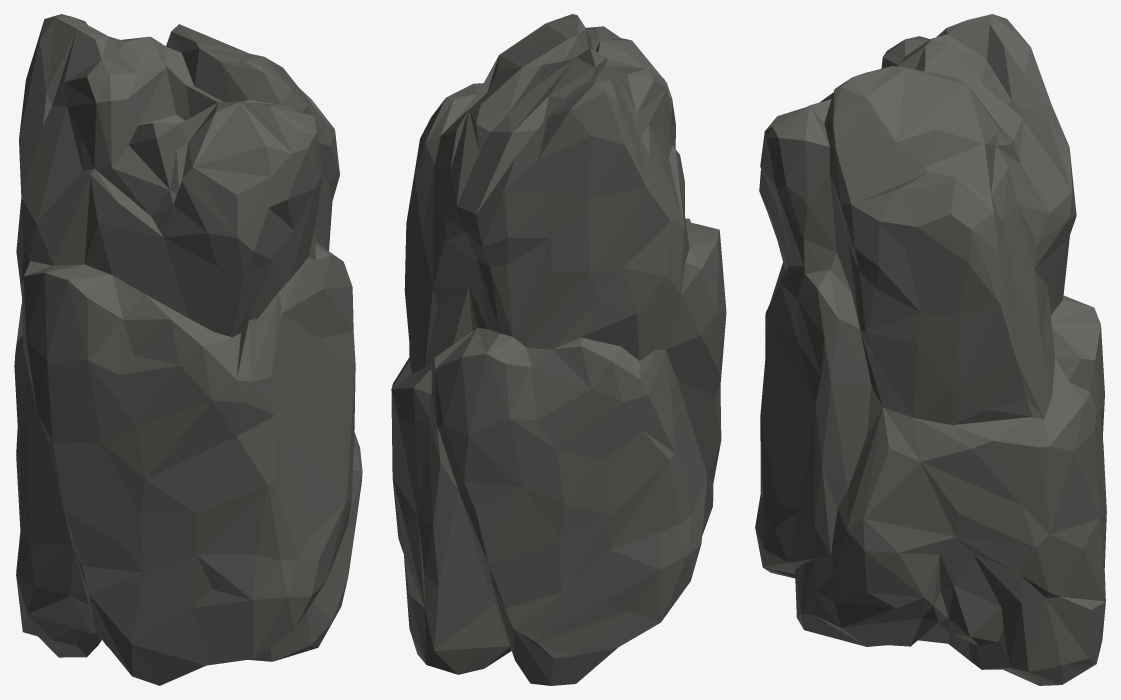
The picture shows the model from 3 angles, left to right: view 1: azimuth 30°, elevation 25°; view 2: azimuth 150°, elevation 25°; view 3: azimuth 270°, elevation 25°; orthographic projection. The views are drawn at different scales.
Visible parts, largest first — view 1: SM_Env_Rock_Cliff_01; view 2: SM_Env_Rock_Cliff_01; view 3: SM_Env_Rock_Cliff_01.
Boxes of the visible parts, box(x1,y1,x2,y2) form: SM_Env_Rock_Cliff_01: box(14, 14, 362, 685); SM_Env_Rock_Cliff_01: box(391, 14, 726, 685); SM_Env_Rock_Cliff_01: box(755, 14, 1106, 685).
Bounding box in the file's own units: 9.1 × 18.47 × 9.76.
1 material, 1 textured.
